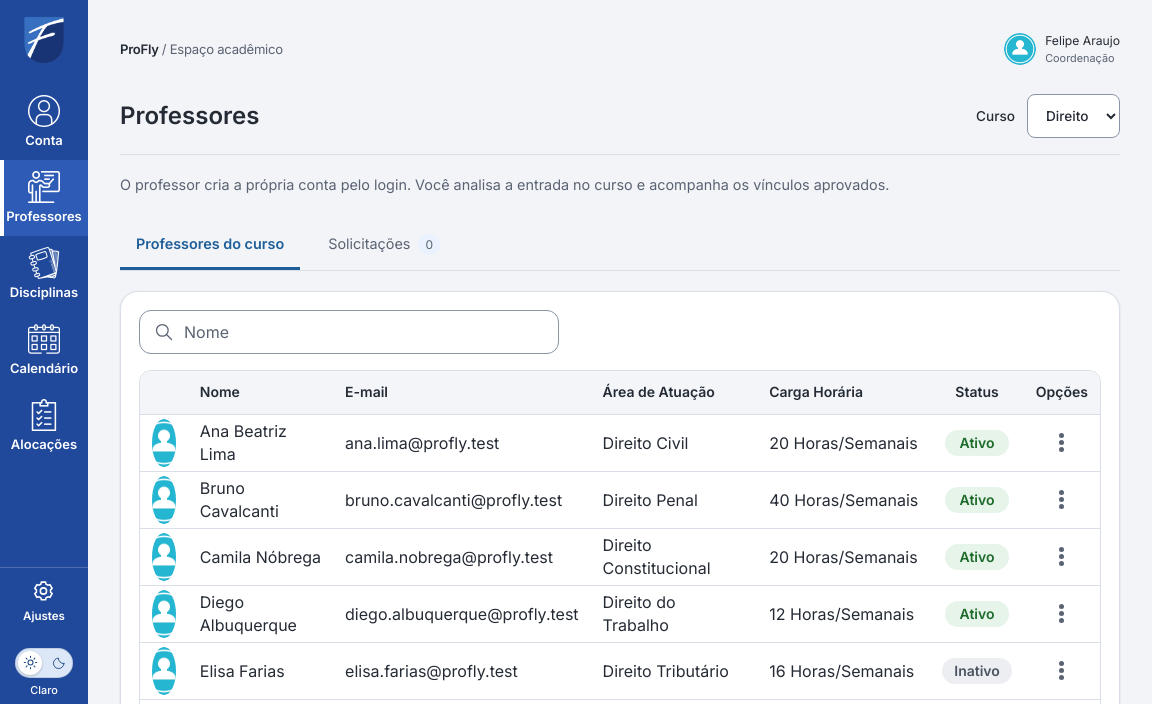
Test: Professores e solicitacoes › pesquisa ignorando acentos e informa ausencia de resultados
Expected: the text "Ana Beatriz Lima" is shown, [188, 415, 333, 472]
In the search field: (363, 332) [182, 311, 544, 353], type "JOAO"
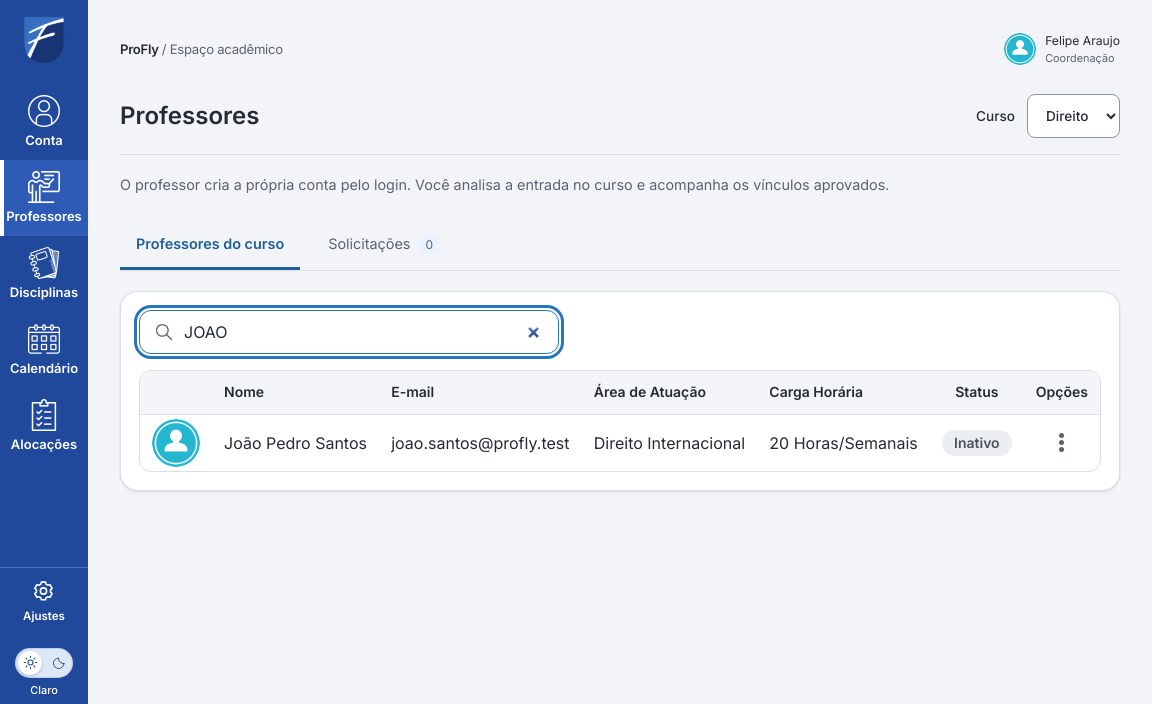
Expected: the text "João Pedro Santos" is shown, [212, 415, 379, 471]
Now the number of rows is 2, box [140, 371, 1100, 415]; [140, 415, 1100, 471]
Replace the text in the search field with "xyz": (363, 332) [182, 311, 544, 353]
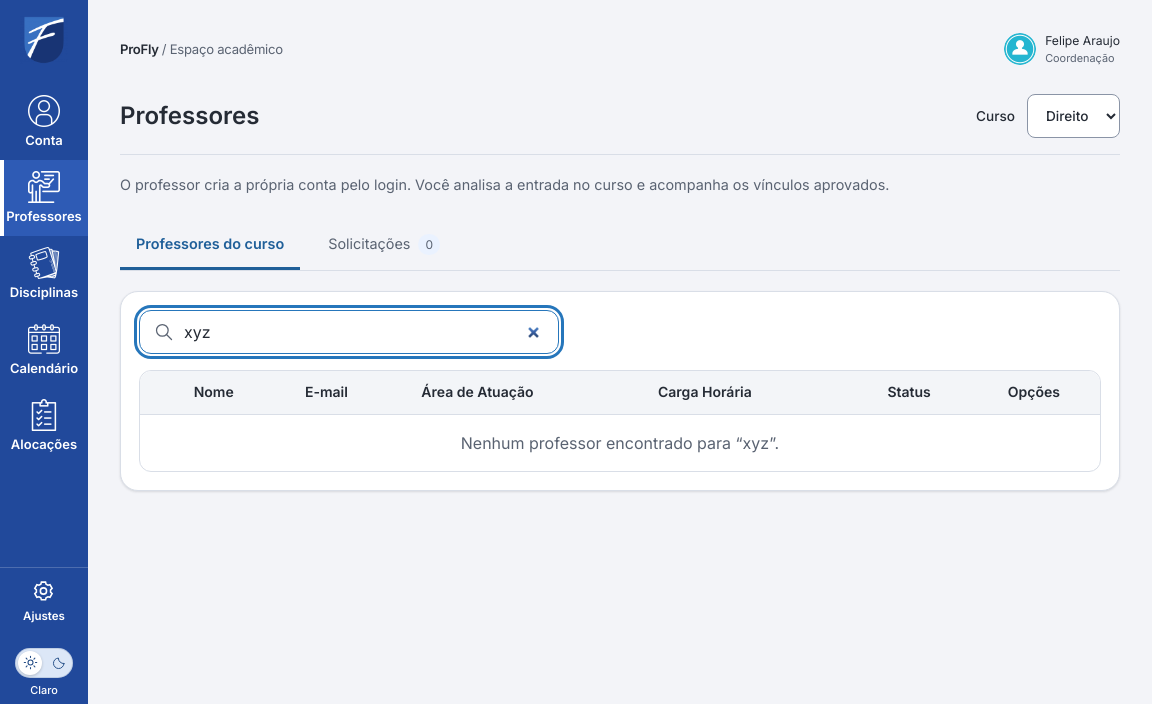
Now the text "Nenhum professor encontrado para “xyz”." is shown, box [140, 415, 1100, 471]
